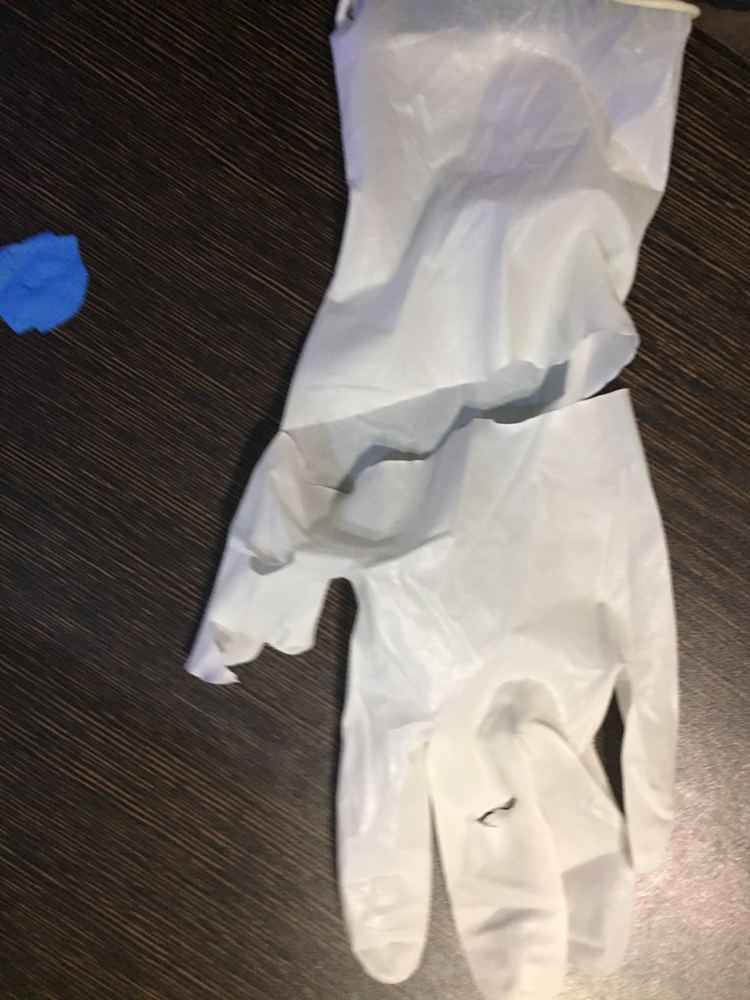defected: (185, 22, 730, 934)
